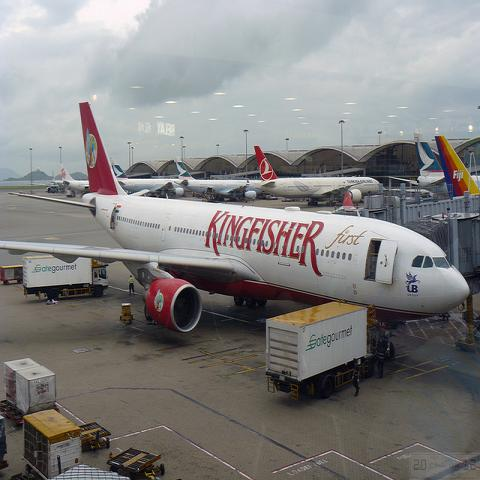truck: (265, 301, 378, 401), (24, 410, 129, 479), (23, 254, 110, 301)
